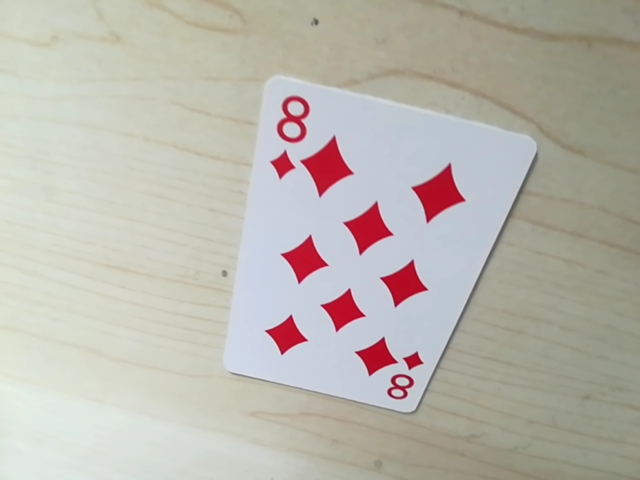fk 8: (265, 88, 323, 163), (376, 359, 427, 405)
